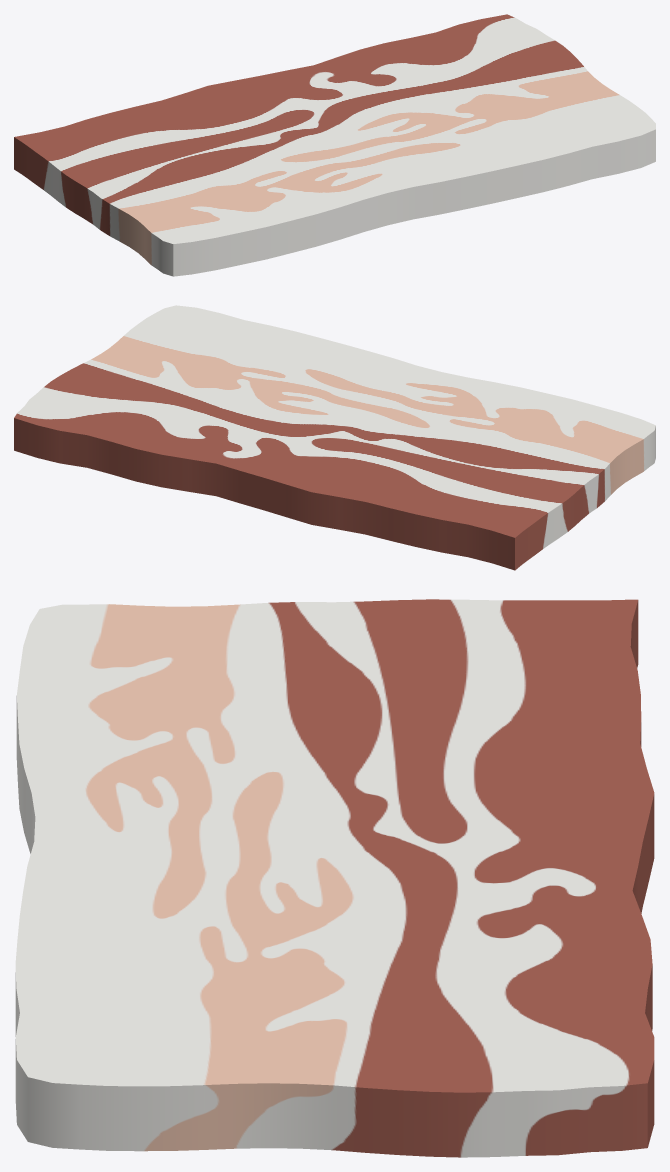
The model's file is meat_whole_v1.fbx.
3 renders of one model, top to bottom at view 1: azimuth 30°, elevation 25°; view 2: azimuth 150°, elevation 25°; view 3: azimuth 270°, elevation 25°, orthographic. The views are drawn at different scales.
Visible parts, largest first — view 1: meat2; view 2: meat2; view 3: meat2.
Boxes of the visible parts, x1,y1,x2,y2 form: meat2: (14, 14, 655, 276); meat2: (14, 305, 655, 570); meat2: (15, 599, 654, 1157).
Bounding box in the file's own units: 32.56 × 2 × 17.82.
